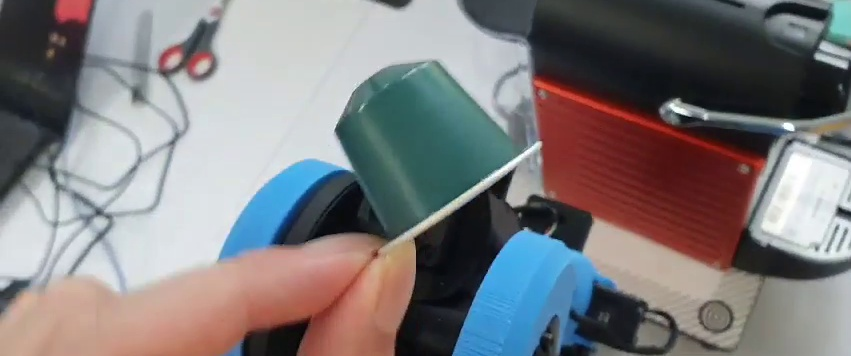capsule_13: (334, 62, 546, 259)
